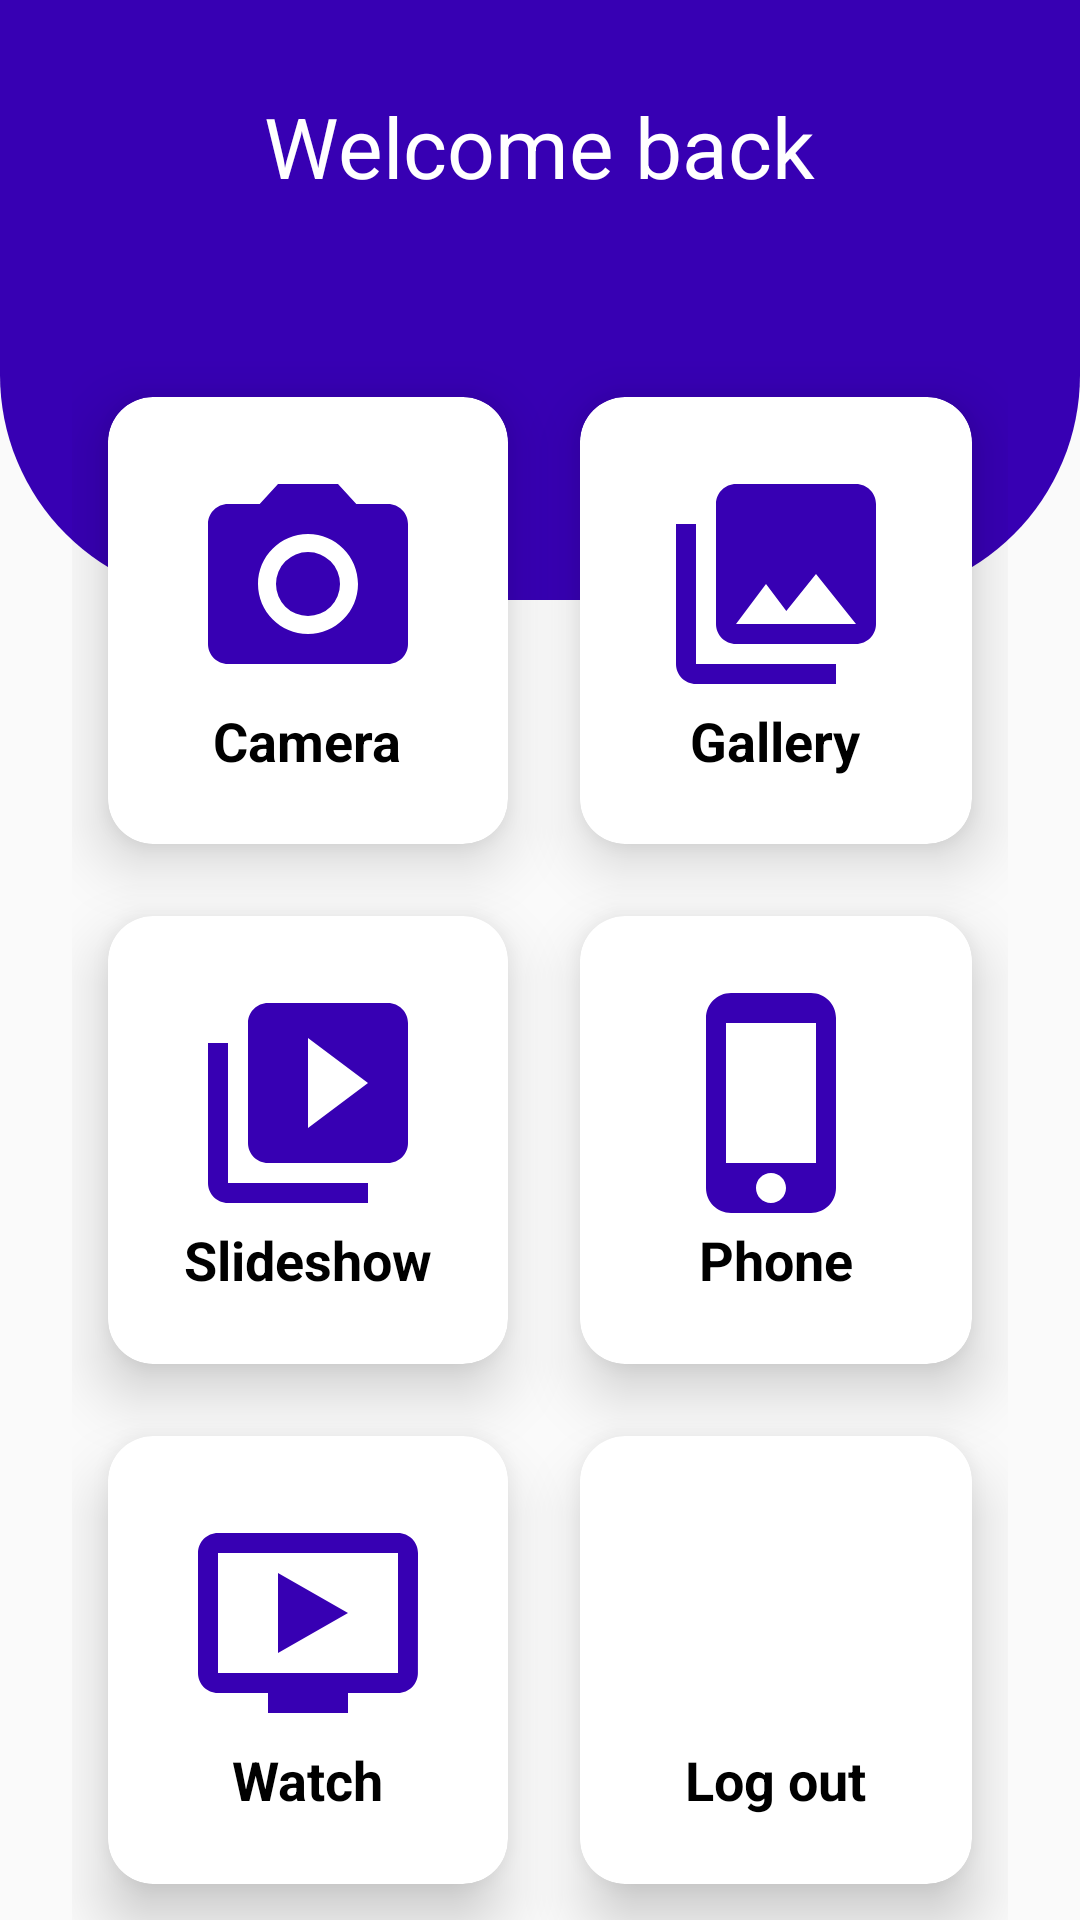

Icon click points for this 1080px×1920px phone screenshot, format (x=x, y=y):
video: (x=308, y=1623)
